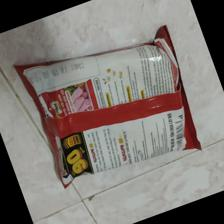Kokomi: (13, 26, 202, 186)
